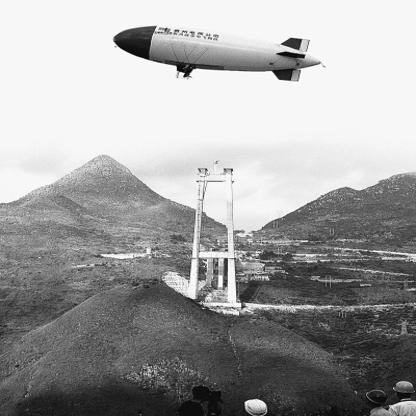Airship: (110, 23, 329, 91)
